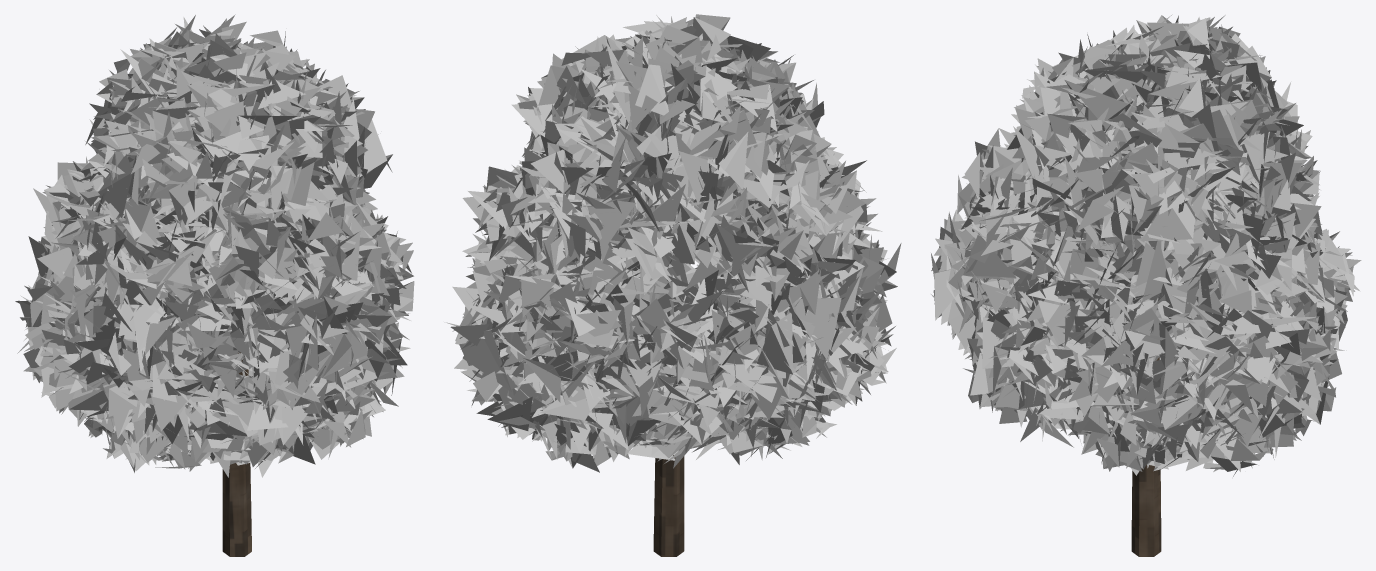
The model's file is testArbre3.fbx.
The picture shows the model from 3 angles, left to right: view 1: azimuth 30°, elevation 25°; view 2: azimuth 150°, elevation 25°; view 3: azimuth 270°, elevation 25°; orthographic projection. The views are drawn at different scales.
Visible parts, largest first — view 1: Tree3DMesh; view 2: Tree3DMesh; view 3: Tree3DMesh.
Part boxes in pixels (bbox=[...]): Tree3DMesh: bbox=[15, 14, 414, 556]; Tree3DMesh: bbox=[444, 14, 901, 556]; Tree3DMesh: bbox=[931, 14, 1361, 556].
Bounding box in the file's own units: 774 × 1036 × 789.
